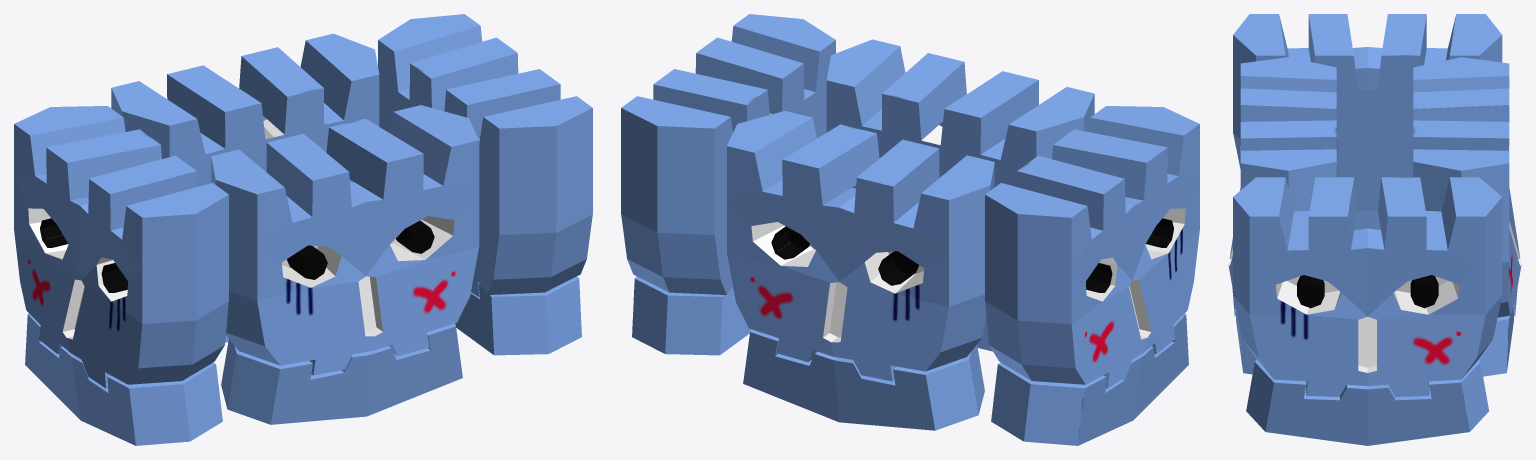
Rendered from GodotToon1.glb.
3 renders of one model, left to right at view 1: azimuth 30°, elevation 25°; view 2: azimuth 150°, elevation 25°; view 3: azimuth 270°, elevation 25°, orthographic. The views are drawn at different scales.
Parts seen in each view (by area): view 1: Plane; view 2: Plane; view 3: Plane.
Boxes of the visible parts, x1=… form: Plane: x1=14, y1=14, x2=592, y2=445; Plane: x1=621, y1=14, x2=1199, y2=445; Plane: x1=1228, y1=14, x2=1521, y2=445.
Bounding box in the file's own units: 2.98 × 1.5 × 1.73.
Materials: 1 (1 with a texture image).
